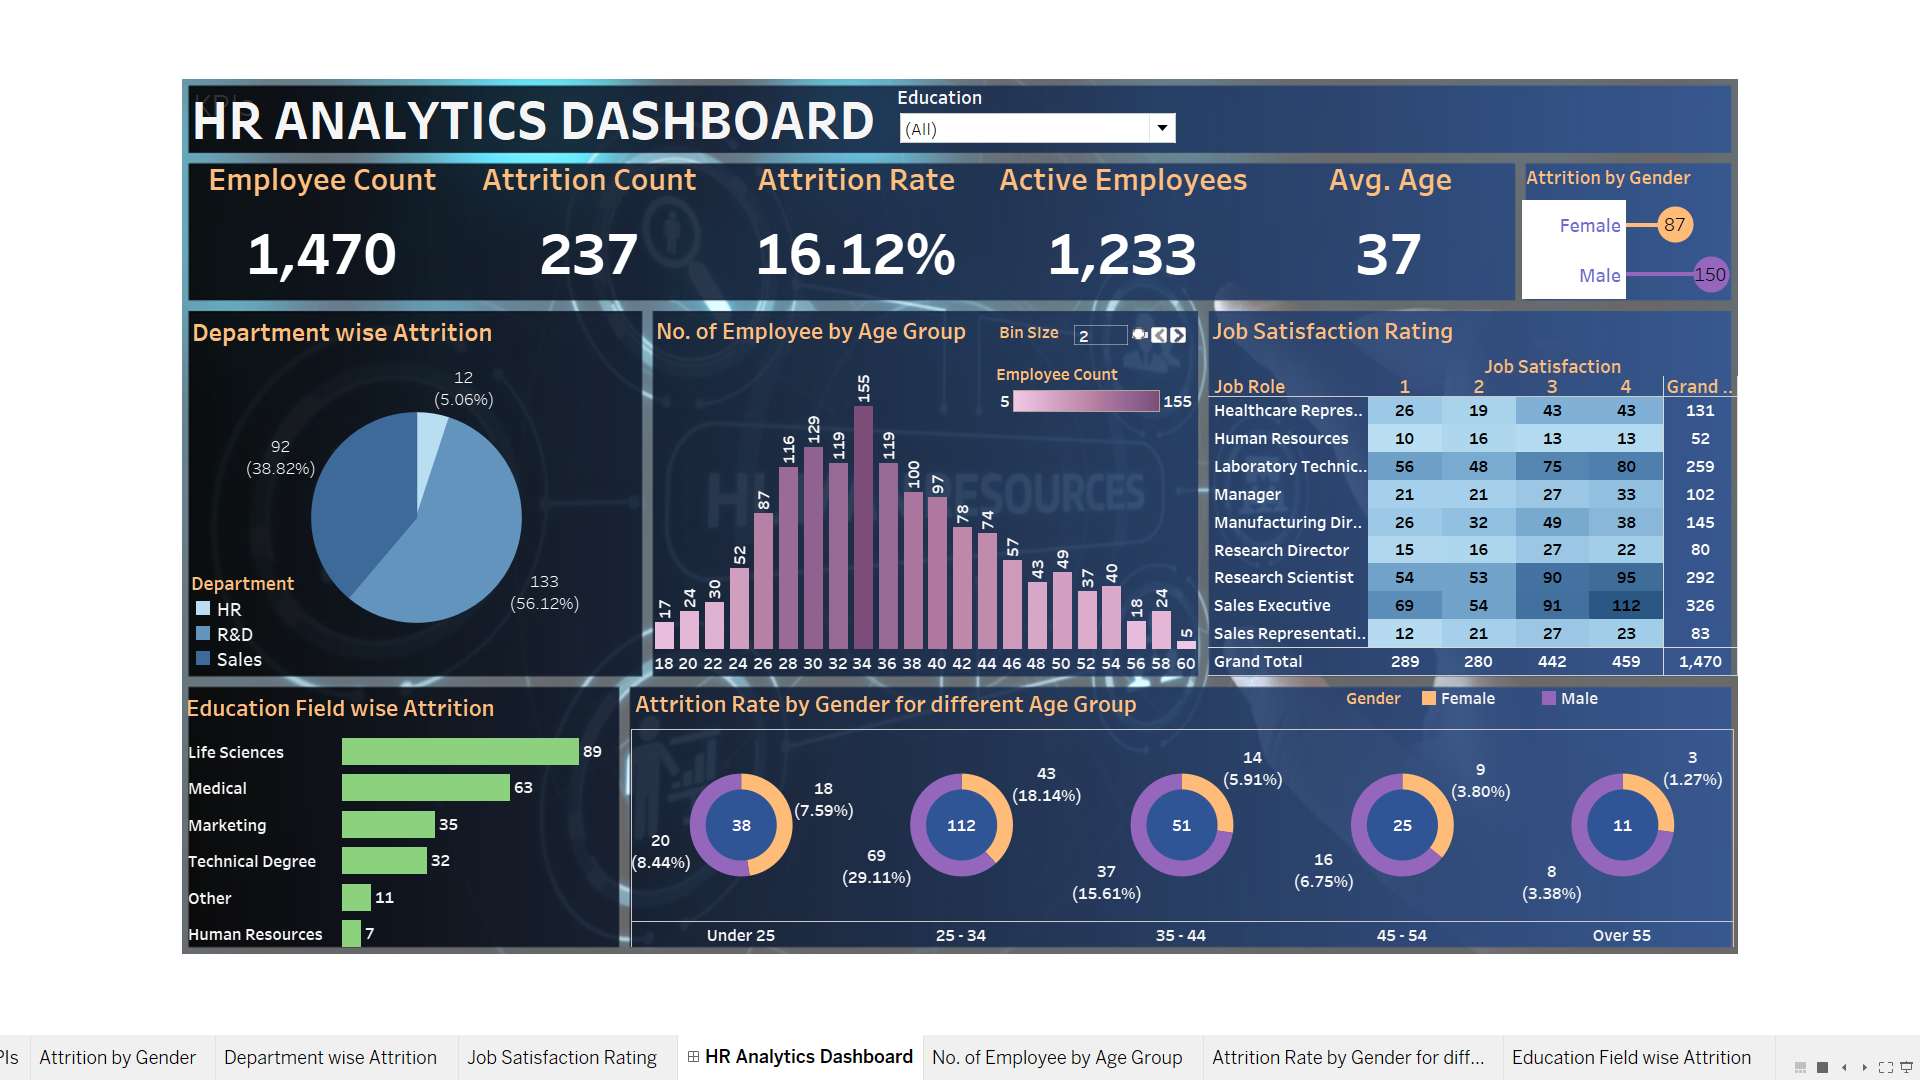

The dashboard page shown, as its layout file describes it:
{"tool":"tableau","page":{"name":"HR Analytics Dashboard","canvas":[1580,900],"ordinal":0},"visuals":[{"type":"image","param":"Image/HR background.png","box":[8,8,1564,884]},{"type":"worksheet","title":"KPIs","mark":"Automatic","box":[19,12,1335,226]},{"type":"text","box":[17,16,703,69]},{"type":"filter","title":"Department wise Attrition","param":"[federated.0abl2l71colpyn15ybi0403ung82].[none:Education:nk]","box":[727,17,282,65]},{"type":"worksheet","title":"Attrition by Gender","mark":"Automatic","rows":["Gender"],"cols":["Calculation_789537335179268096","Calculation_789537335179268096"],"box":[1352,93,212,139]},{"type":"worksheet","title":"Department wise Attrition","mark":"Pie","box":[18,244,457,365]},{"type":"worksheet","title":"No. of Employee by Age Group","mark":"Automatic","rows":["Employee Count"],"cols":["Age (bin)"],"box":[482,244,547,364]},{"type":"worksheet","title":"Job Satisfaction Rating","mark":"Square","rows":["Job Role"],"cols":["Job Satisfaction"],"box":[1038,244,530,365]},{"type":"parameter","param":"[Parameters].[Age Parameter]","box":[829,255,190,32]},{"type":"legend","title":"No. of Employee by Age Group","param":"[federated.0abl2l71colpyn15ybi0403ung82].[sum:Employee Count:qk]","box":[826,296,201,51]},{"type":"legend","title":"Department wise Attrition","param":"[federated.0abl2l71colpyn15ybi0403ung82].[none:Department:nk]","box":[21,503,140,105]},{"type":"worksheet","title":"Attrition Rate by Gender for different Age Group ","mark":"Pie","rows":["Calculation_789537335270019076","Calculation_789537335270019076"],"cols":["CF_age band"],"box":[461,617,1103,264]},{"type":"legend","title":"Attrition Rate by Gender for different Age Group ","param":"[federated.0abl2l71colpyn15ybi0403ung82].[none:Gender:nk]","box":[1176,620,384,40]},{"type":"worksheet","title":"Education Field wise Attrition","mark":"Automatic","rows":["Education Field"],"cols":["Calculation_789537335179268096"],"box":[12,621,437,264]}]}

Visuals, with their boxes on the page's 1580x900 design canvas (x1, y1, x2, y2). These are canvas units, not pixel positions in the 1920x1080 screenshot, which may show the page scaled, cropped or inside an application window:
image: rect(8, 8, 1572, 892)
"KPIs" worksheet: rect(19, 12, 1354, 238)
text: rect(17, 16, 720, 85)
"Department wise Attrition" filter: rect(727, 17, 1009, 82)
"Attrition by Gender" worksheet: rect(1352, 93, 1564, 232)
"Department wise Attrition" worksheet (Pie marks): rect(18, 244, 475, 609)
"No. of Employee by Age Group" worksheet: rect(482, 244, 1029, 608)
"Job Satisfaction Rating" worksheet (Square marks): rect(1038, 244, 1568, 609)
parameter: rect(829, 255, 1019, 287)
"No. of Employee by Age Group" legend: rect(826, 296, 1027, 347)
"Department wise Attrition" legend: rect(21, 503, 161, 608)
"Attrition Rate by Gender for different Age Group " worksheet (Pie marks): rect(461, 617, 1564, 881)
"Attrition Rate by Gender for different Age Group " legend: rect(1176, 620, 1560, 660)
"Education Field wise Attrition" worksheet: rect(12, 621, 449, 885)
